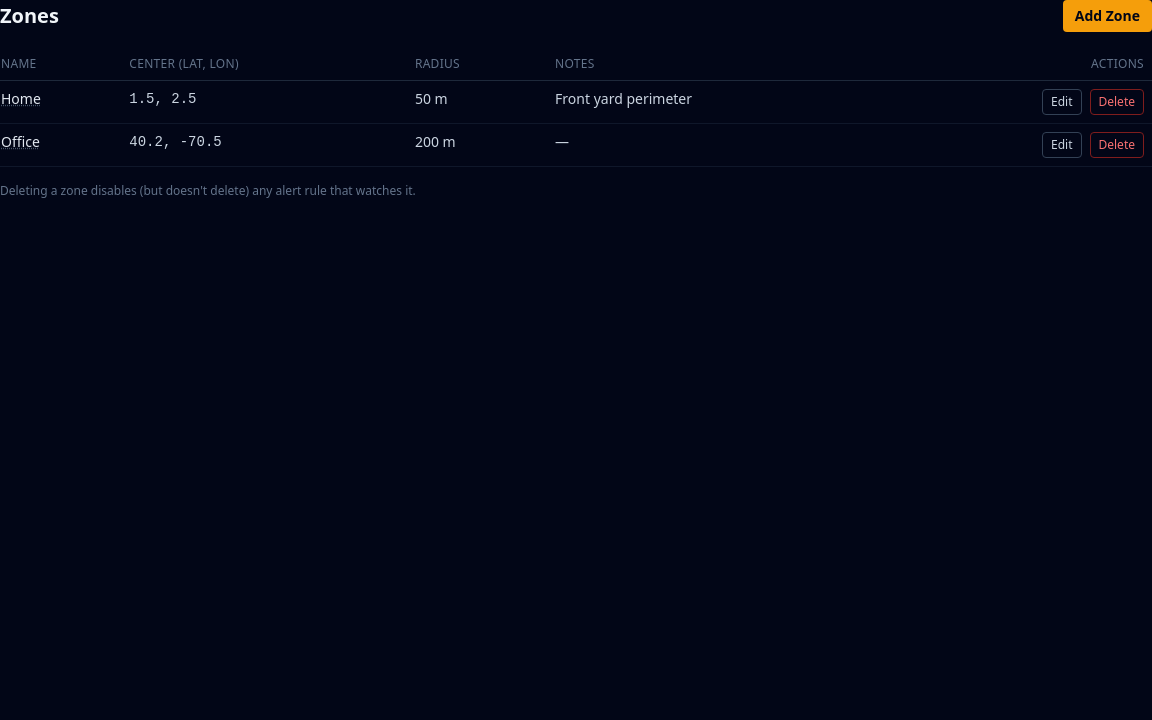
Test: a zero radius shows a validation error and does not POST
Expected: the row with test id "zone-row-zone-1" is shown, [0,80,1151,124]
Click the button "Add Zone" at x=1107, y=16, box [1063,0,1151,32]
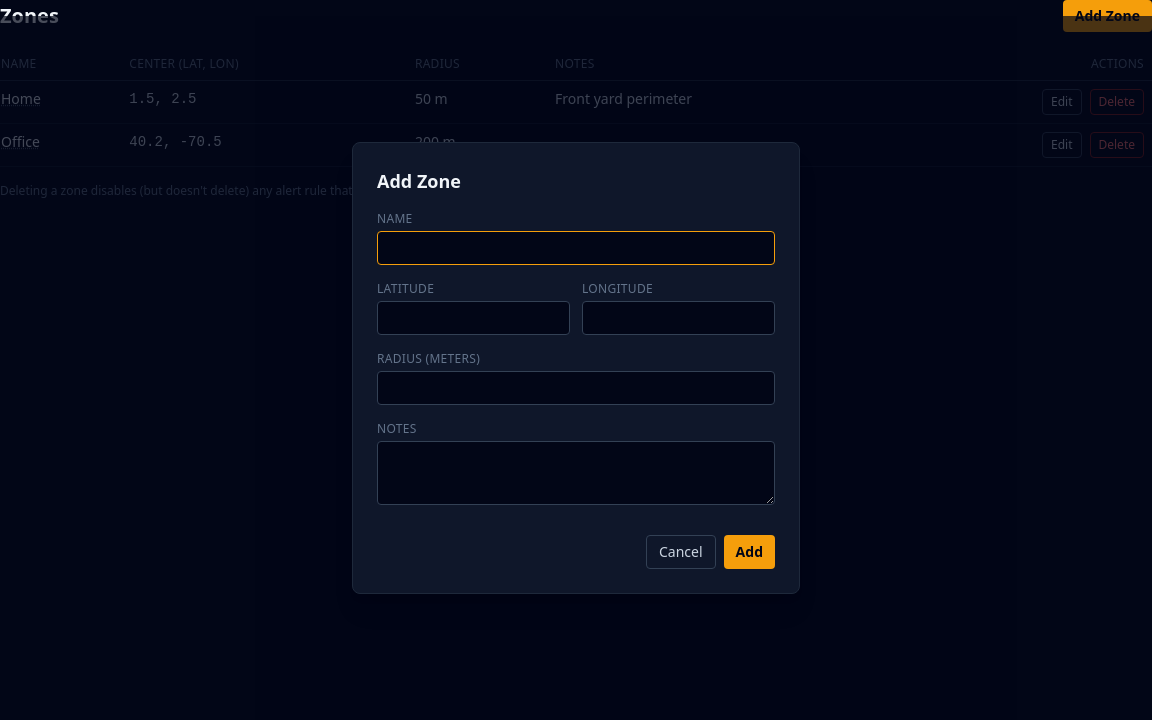
Expected: the heading "Add Zone" is shown, [377,169,461,193]
Type "Bad Zone" into the field labelled "Name" at x=576, y=248, box [377,231,775,265]
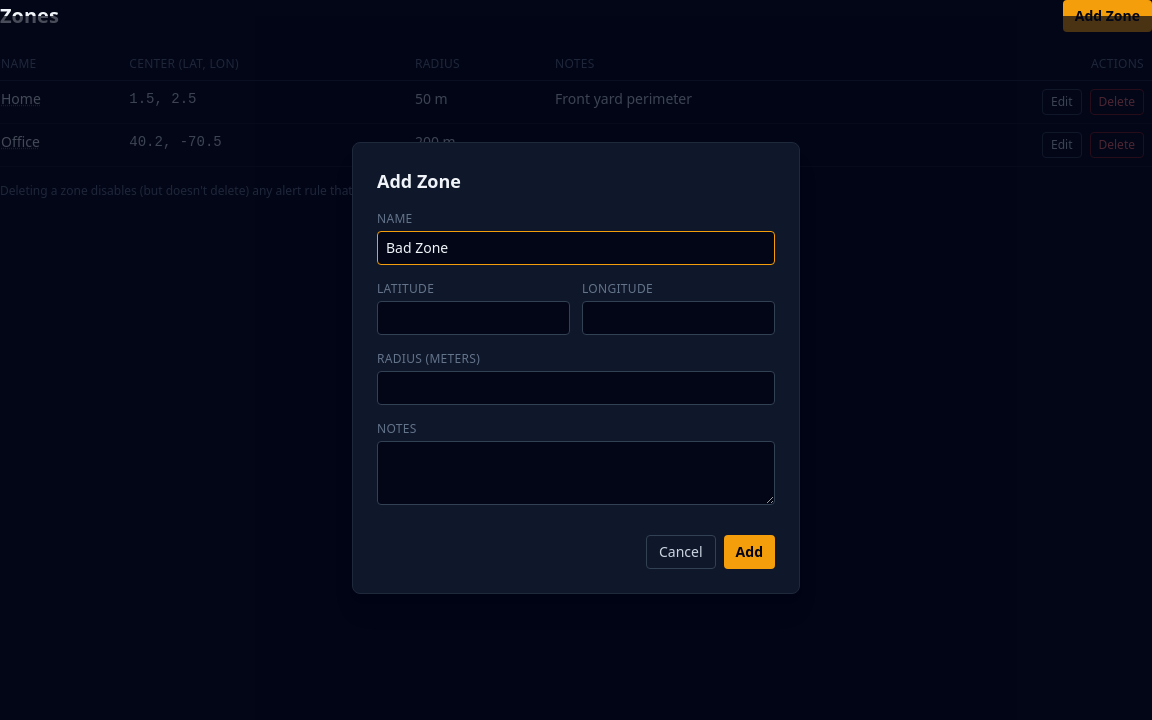
Type "10" into the number field labelled "Latitude" at x=474, y=318, box [377,301,570,335]
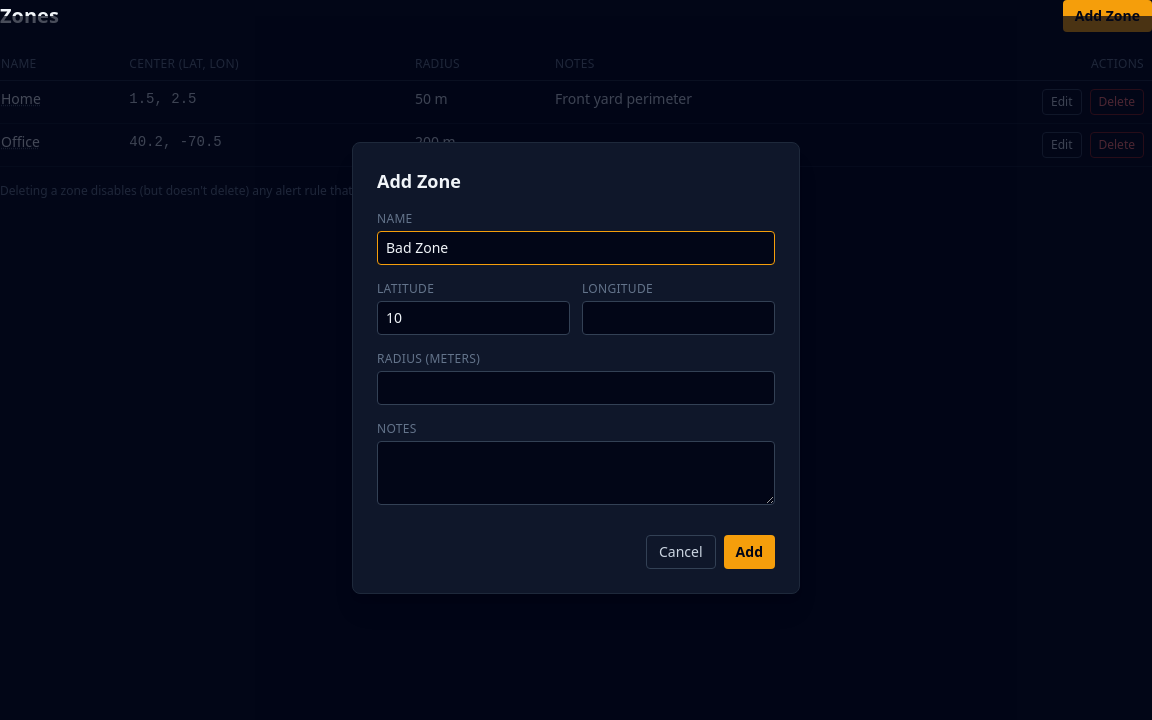
Type "10" into the number field labelled "Longitude" at x=678, y=318, box [582,301,775,335]
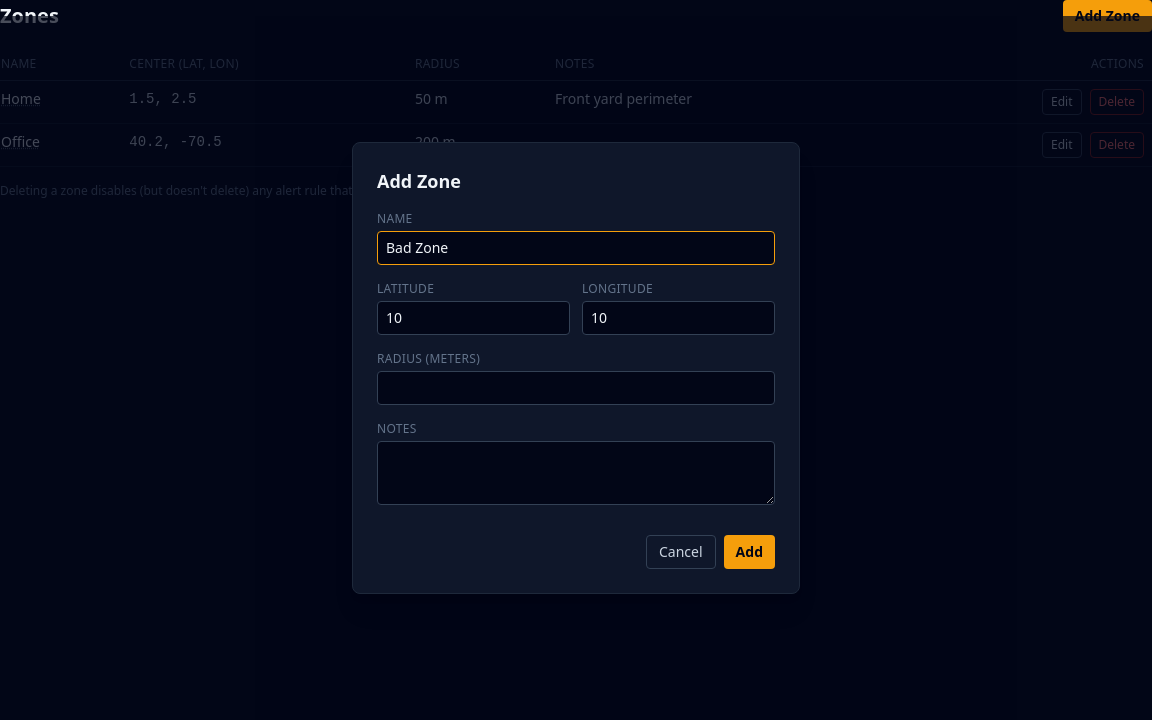
Type "0" into the number field labelled "Radius (meters)" at x=576, y=388, box [377,371,775,405]
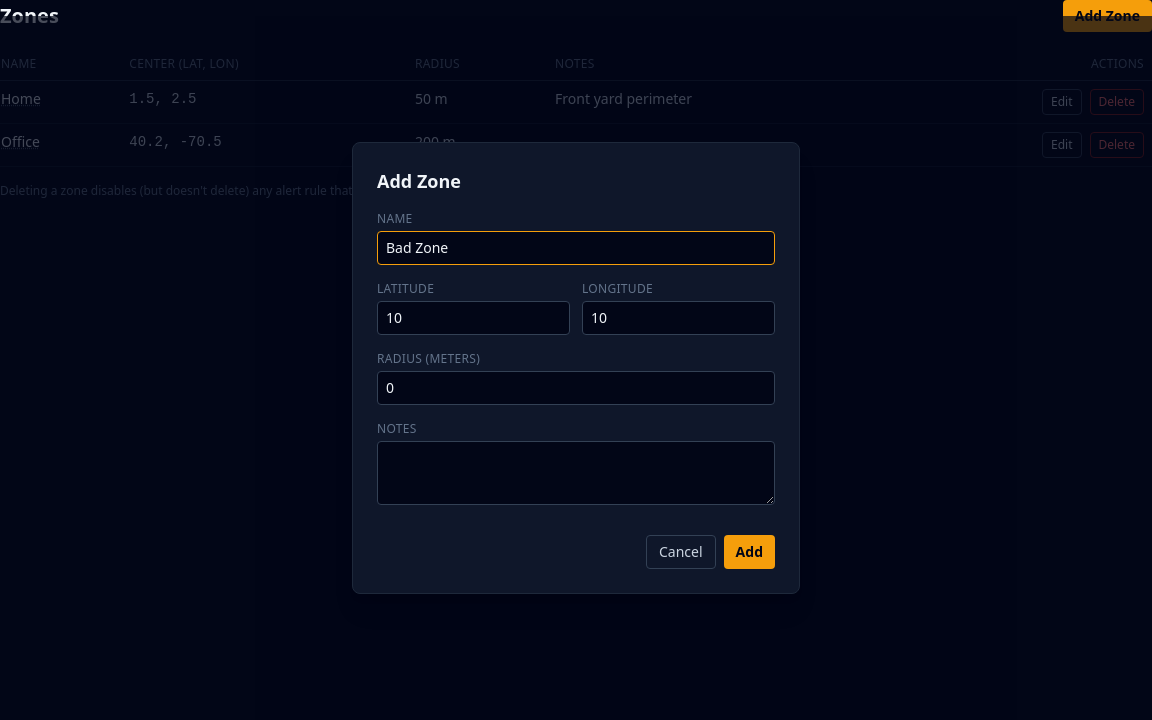
Click the button "Add" at x=749, y=552, box [724,535,775,569]
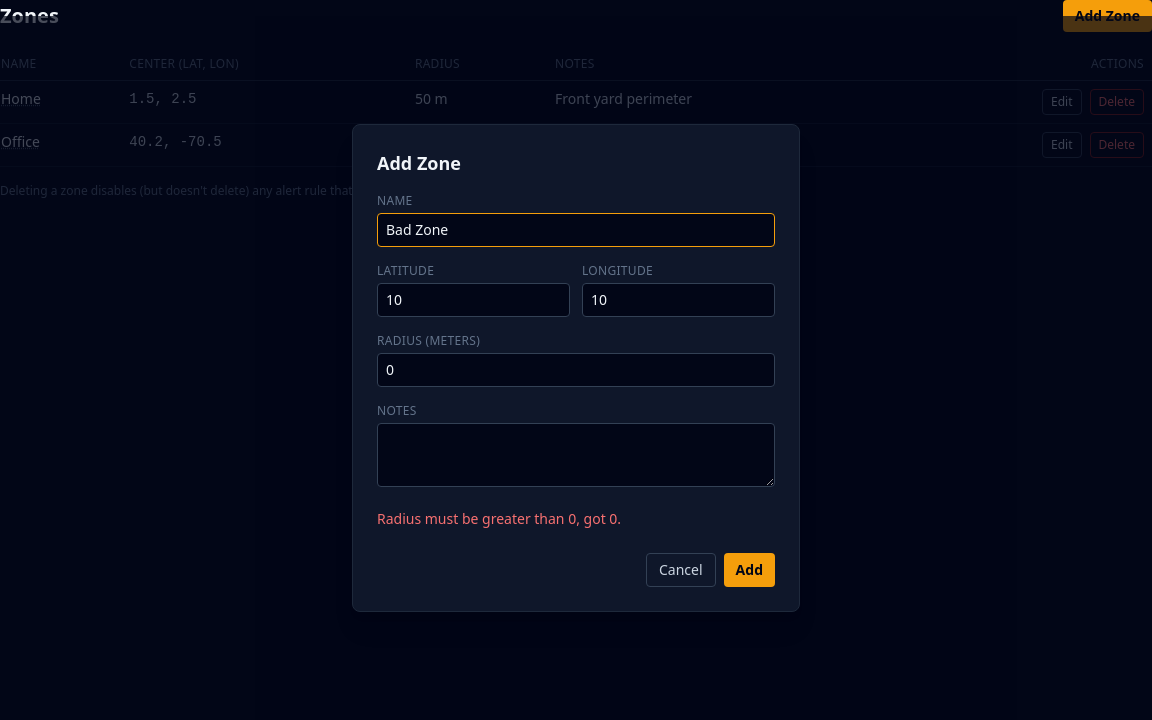
Expected: the message shows "Radius", [377,509,621,528]
